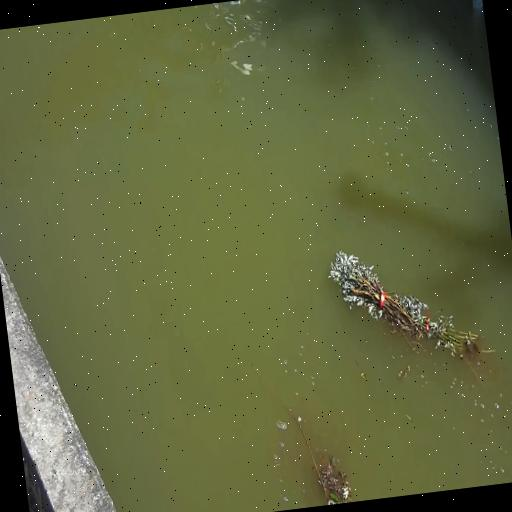twig: (329, 250, 480, 359), (252, 364, 356, 505)
